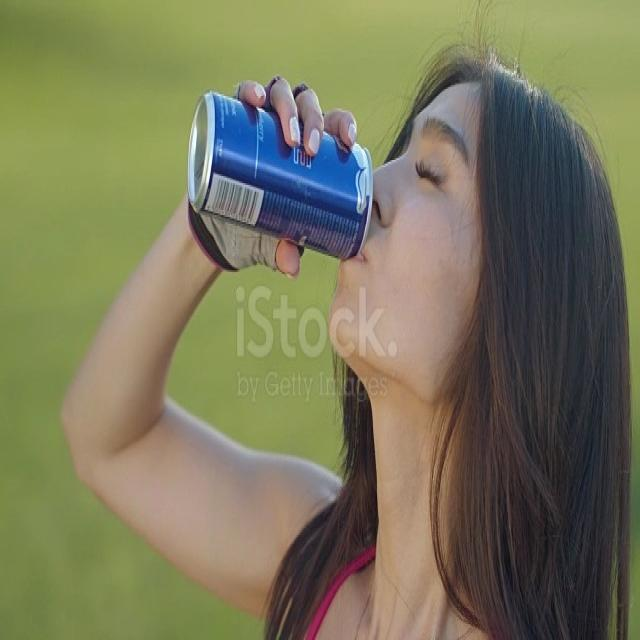can: (183, 79, 379, 268)
